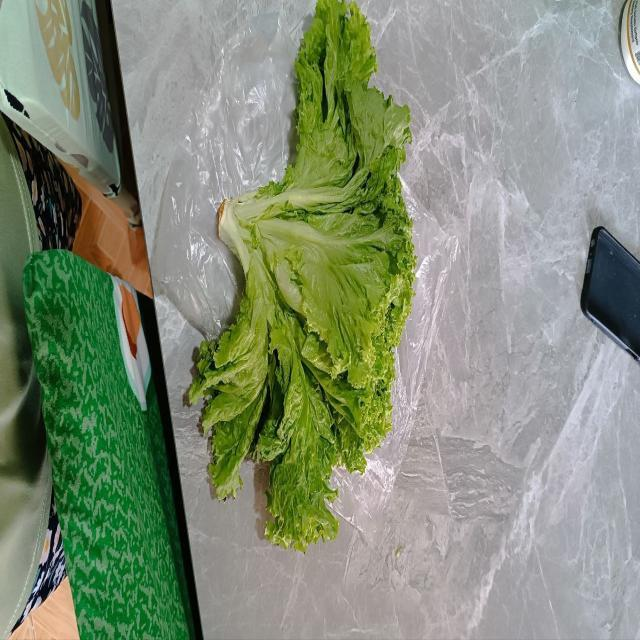Lettuce-Ready-to-Harvest: (188, 0, 415, 549)
